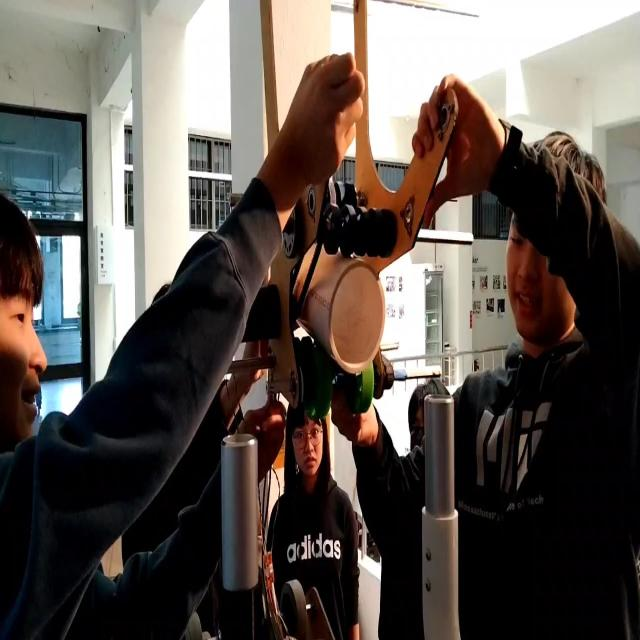CORAL: (298, 243, 385, 377)
